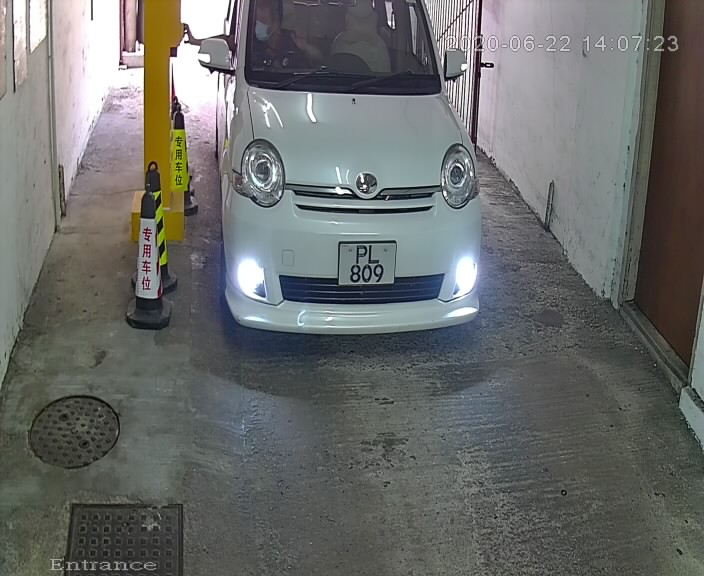privatecar: (175, 2, 499, 356)
